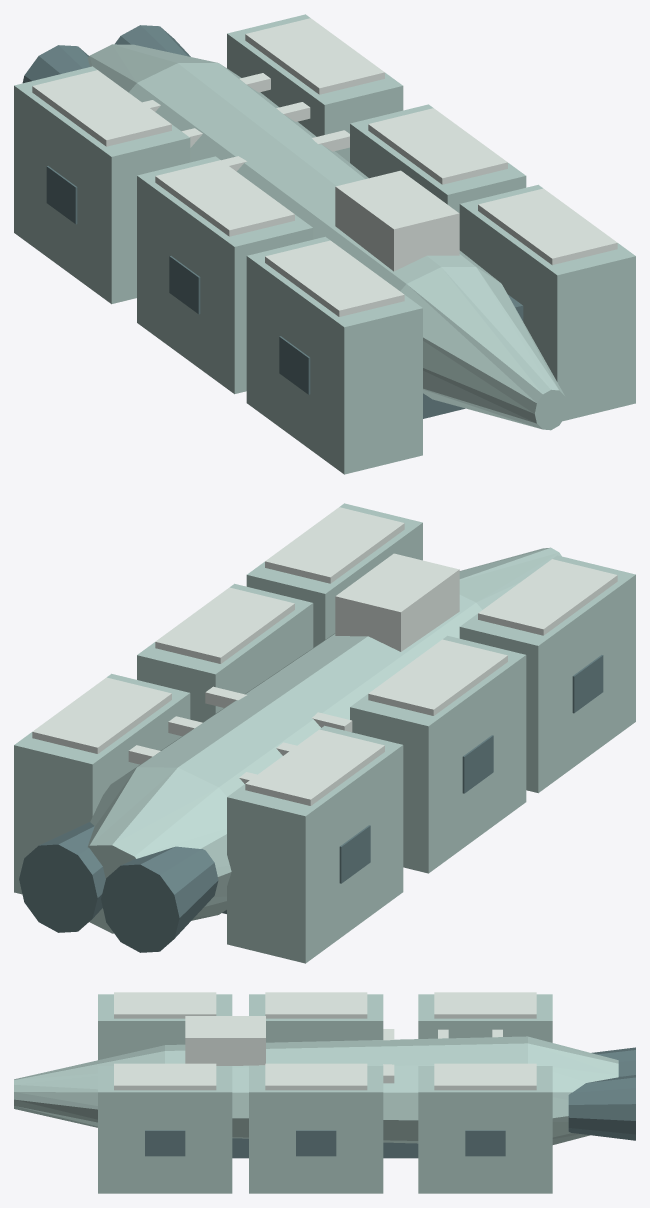
3 views of the same model, one above another, from view 1: azimuth 30°, elevation 25°; view 2: azimuth 150°, elevation 25°; view 3: azimuth 270°, elevation 25° (orthographic). The views are drawn at different scales.
Bounding box in the file's own units: 3.42 × 1.9 × 9.07.
